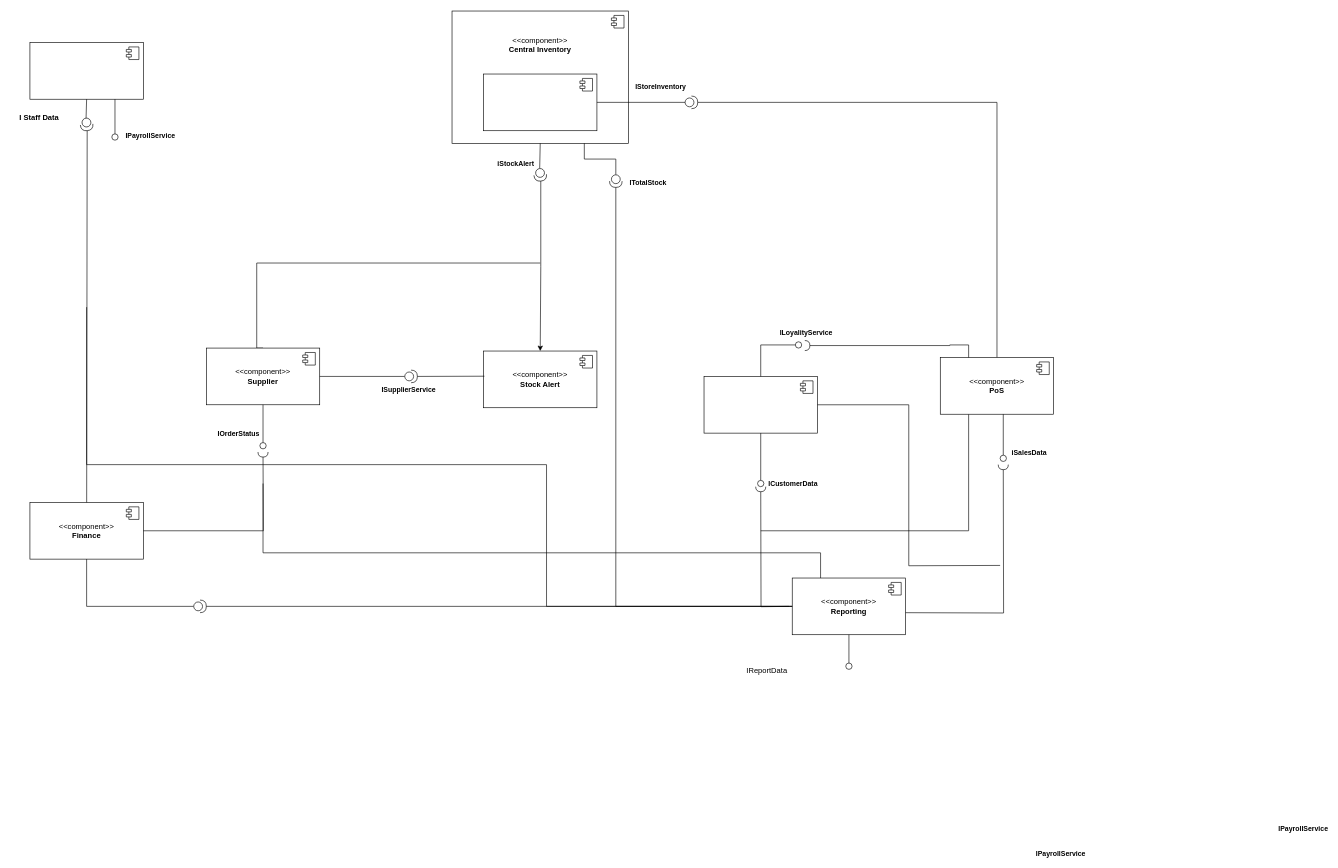
Image size: 1338x868. Some labels were removed from this diagram. Here are the shapes that lost their labels. From the top down, the centre of each, then its label:
At point (86, 70): "<<component>> HR".
At point (540, 102): "<<component>> Store Inventory".
At point (760, 404): "<<component>> Customer".
